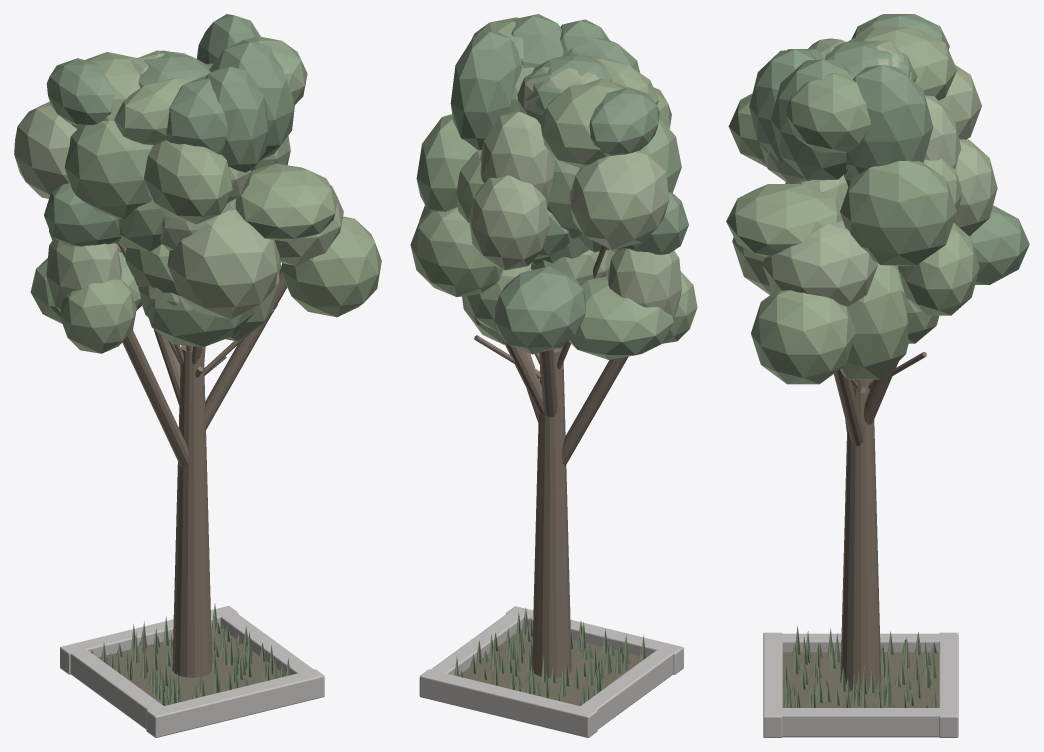
Rendered from r6b-drzewo.glb.
The picture shows the model from 3 angles, left to right: view 1: azimuth 30°, elevation 25°; view 2: azimuth 150°, elevation 25°; view 3: azimuth 270°, elevation 25°; orthographic projection.
Parts seen in each view (by area): view 1: R6B R6B ulistnienie 1, R6B R6B ulistnienie 0, R6B R6B ulistnienie 3, R6B R6B kora, R6B R6B ulistnienie 2, R6B R6B kamienne obrzeze misy, R6B R6B zdzbla trawy, R6B R6B ziemia urodzajna; view 2: R6B R6B ulistnienie 0, R6B R6B ulistnienie 3, R6B R6B ulistnienie 1, R6B R6B kora, R6B R6B ulistnienie 2, R6B R6B kamienne obrzeze misy, R6B R6B zdzbla trawy, R6B R6B ziemia urodzajna; view 3: R6B R6B ulistnienie 1, R6B R6B ulistnienie 0, R6B R6B ulistnienie 3, R6B R6B ulistnienie 2, R6B R6B kora, R6B R6B kamienne obrzeze misy, R6B R6B zdzbla trawy, R6B R6B ziemia urodzajna.
Part boxes in pixels (box(x1,y1,x2,y2)): R6B R6B ulistnienie 1: box(60, 52, 381, 353); R6B R6B ulistnienie 0: box(44, 14, 294, 252); R6B R6B ulistnienie 3: box(14, 50, 343, 319); R6B R6B kora: box(117, 243, 287, 677); R6B R6B ulistnienie 2: box(30, 36, 307, 346); R6B R6B kamienne obrzeze misy: box(60, 606, 324, 737); R6B R6B zdzbla trawy: box(91, 603, 290, 705); R6B R6B ziemia urodzajna: box(98, 627, 285, 704); R6B R6B ulistnienie 0: box(450, 14, 688, 354); R6B R6B ulistnienie 3: box(468, 67, 681, 318); R6B R6B ulistnienie 1: box(410, 56, 697, 344); R6B R6B kora: box(474, 245, 628, 677); R6B R6B ulistnienie 2: box(416, 17, 681, 359); R6B R6B kamienne obrzeze misy: box(419, 606, 683, 737); R6B R6B zdzbla trawy: box(454, 607, 646, 705); R6B R6B ziemia urodzajna: box(459, 629, 639, 705); R6B R6B ulistnienie 1: box(726, 26, 979, 384); R6B R6B ulistnienie 0: box(749, 14, 1029, 284); R6B R6B ulistnienie 3: box(732, 40, 997, 306); R6B R6B ulistnienie 2: box(786, 71, 956, 265); R6B R6B kora: box(834, 352, 926, 690); R6B R6B kamienne obrzeze misy: box(763, 632, 958, 737); R6B R6B zdzbla trawy: box(782, 626, 937, 707); R6B R6B ziemia urodzajna: box(782, 652, 938, 707).
Size of the model in its own units: 3.51 by 7.43 by 3.11.
